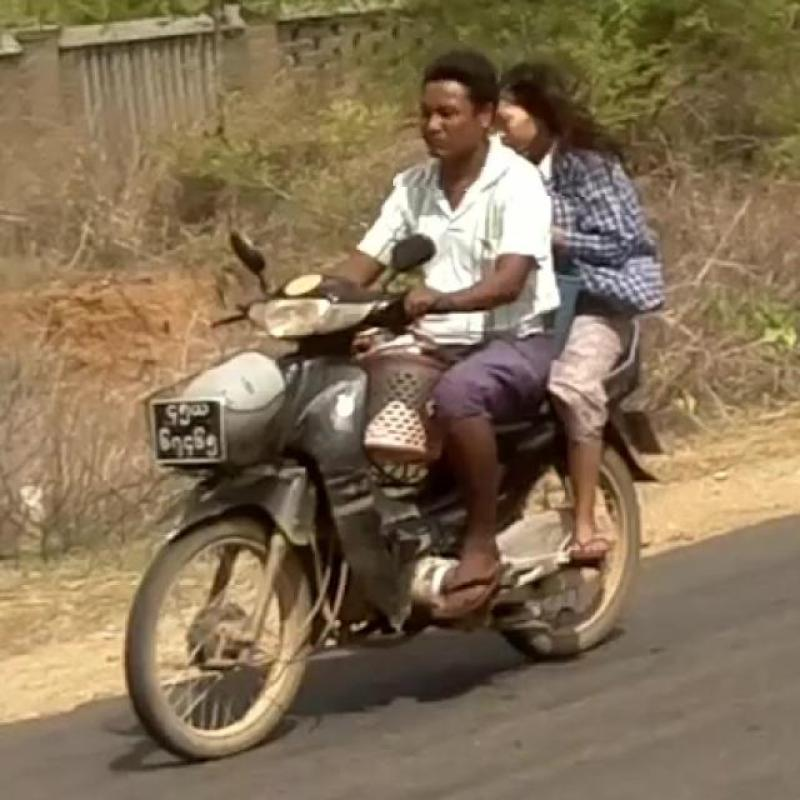nohelmet: (396, 38, 501, 192), (516, 42, 600, 197)
